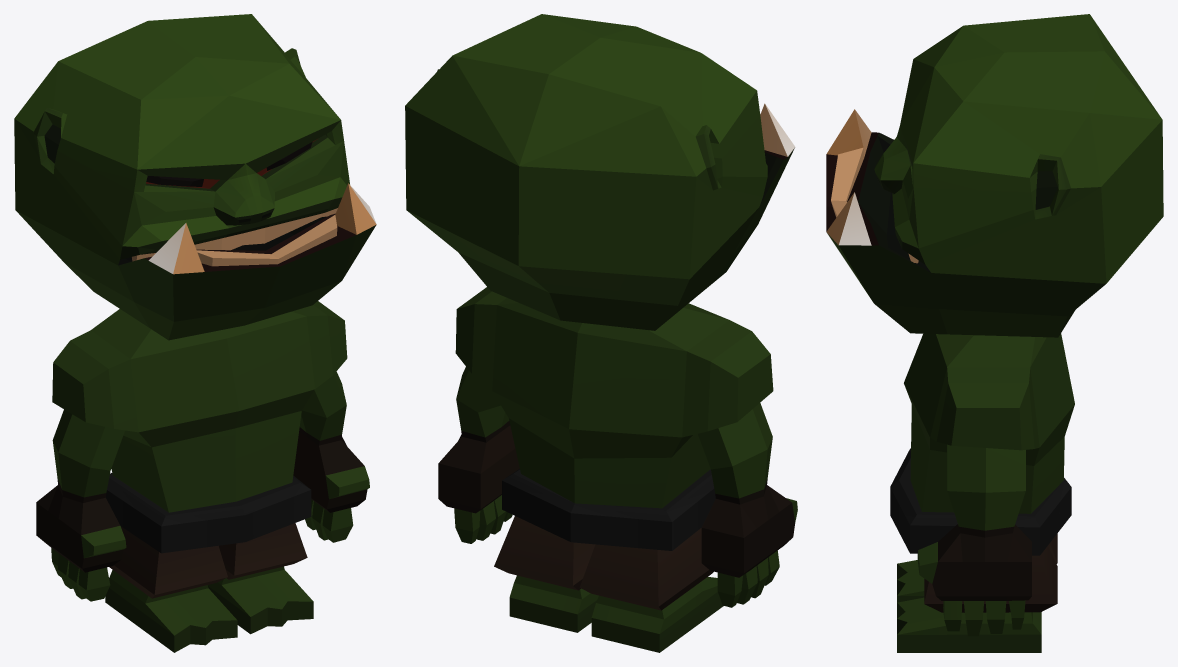
The model's file is TD_EnemyModels.obj.
3 views of the same model, side by side, from view 1: azimuth 30°, elevation 25°; view 2: azimuth 150°, elevation 25°; view 3: azimuth 270°, elevation 25° (orthographic). The views are drawn at different scales.
Visible parts, largest first — view 1: Orc_Mini.202; view 2: Orc_Mini.202; view 3: Orc_Mini.202.
Part boxes in pixels (x1,y1,x2,y2): Orc_Mini.202: (14,14,376,652); Orc_Mini.202: (405,14,797,652); Orc_Mini.202: (826,14,1163,652).
Bounding box in the file's own units: 1.56 × 2.85 × 1.54.
